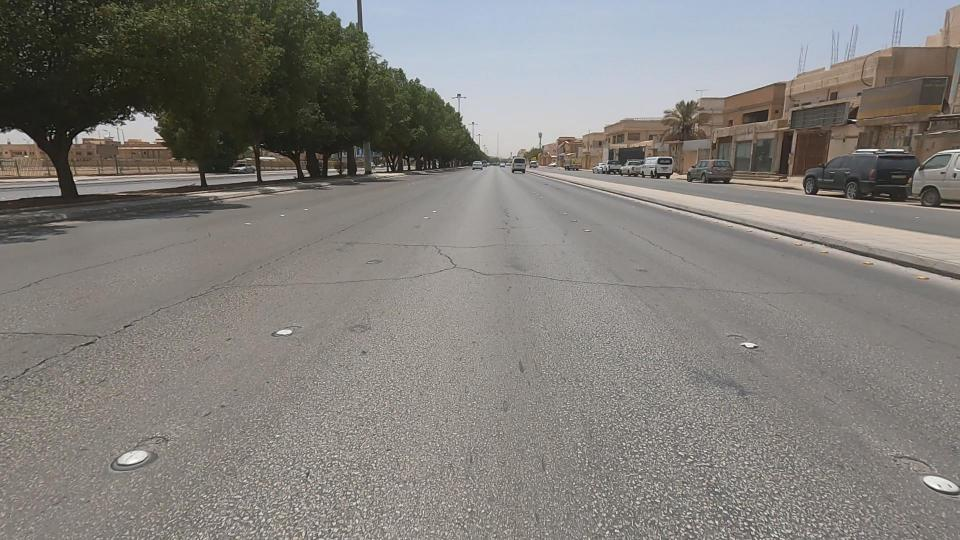BAD_BILLBOARD: (806, 46, 960, 153), (733, 82, 882, 151)
